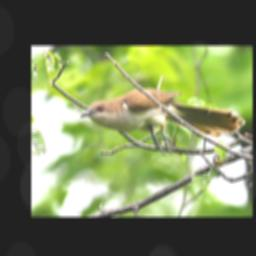Cuckoo: (79, 88, 246, 155)
